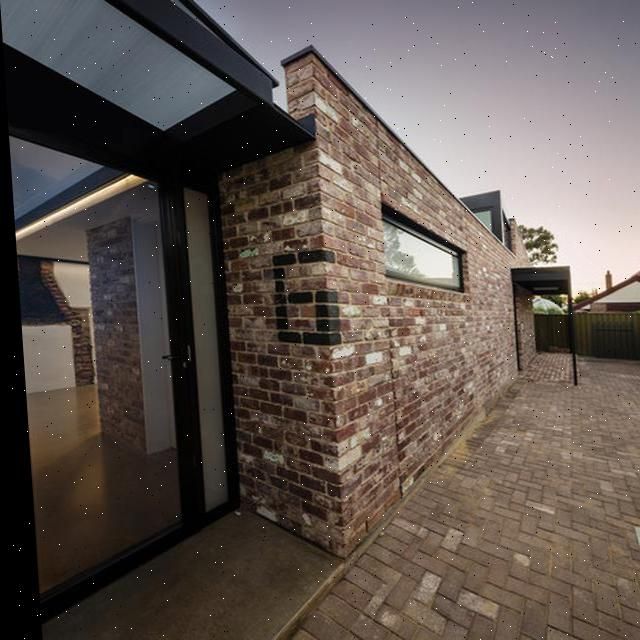building: (0, 0, 552, 564), (571, 262, 640, 318)
